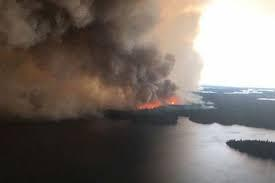fire: (134, 96, 178, 111)
yanwu: (0, 0, 209, 120)
